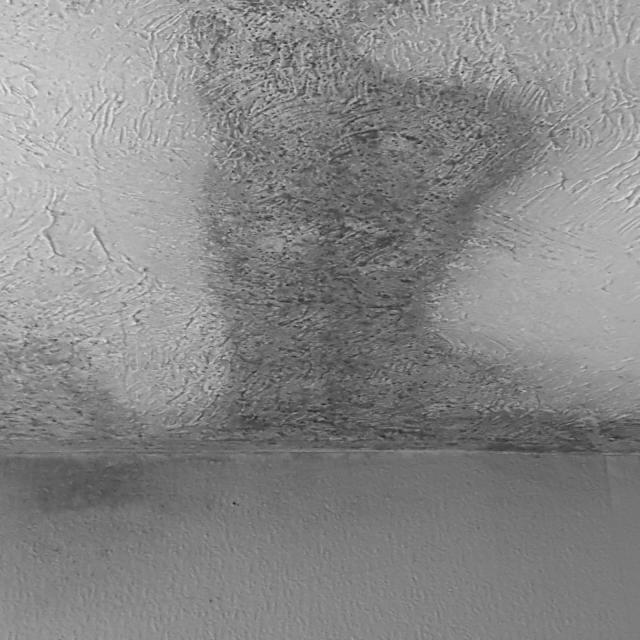stain marks: (163, 0, 566, 280), (186, 282, 486, 468), (7, 314, 164, 528), (481, 338, 640, 466)
